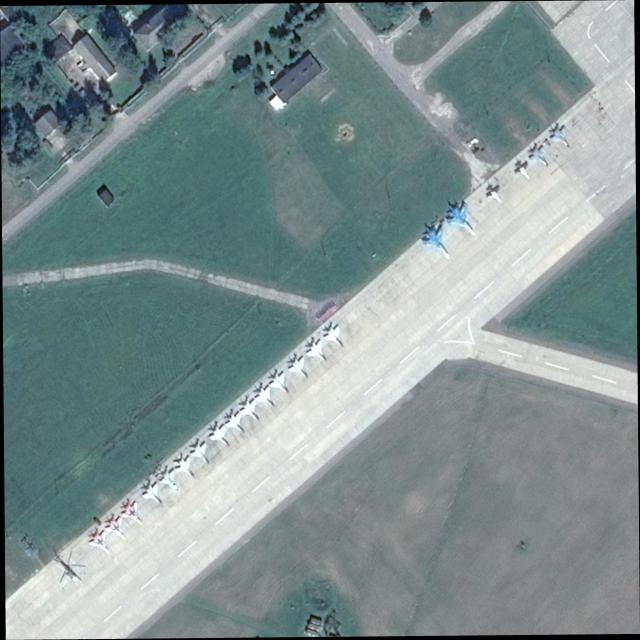plane: (438, 193, 485, 244), (416, 216, 461, 268), (116, 494, 150, 532), (84, 525, 118, 561), (100, 510, 134, 545), (152, 461, 186, 496), (543, 119, 576, 154), (203, 418, 236, 453), (318, 318, 351, 353), (235, 393, 268, 427), (283, 351, 316, 384), (169, 449, 201, 483), (185, 435, 217, 469), (301, 333, 333, 367), (136, 477, 168, 510), (264, 366, 296, 398), (221, 405, 252, 438), (249, 380, 281, 411), (524, 139, 553, 171), (509, 153, 537, 183), (481, 179, 507, 206)
